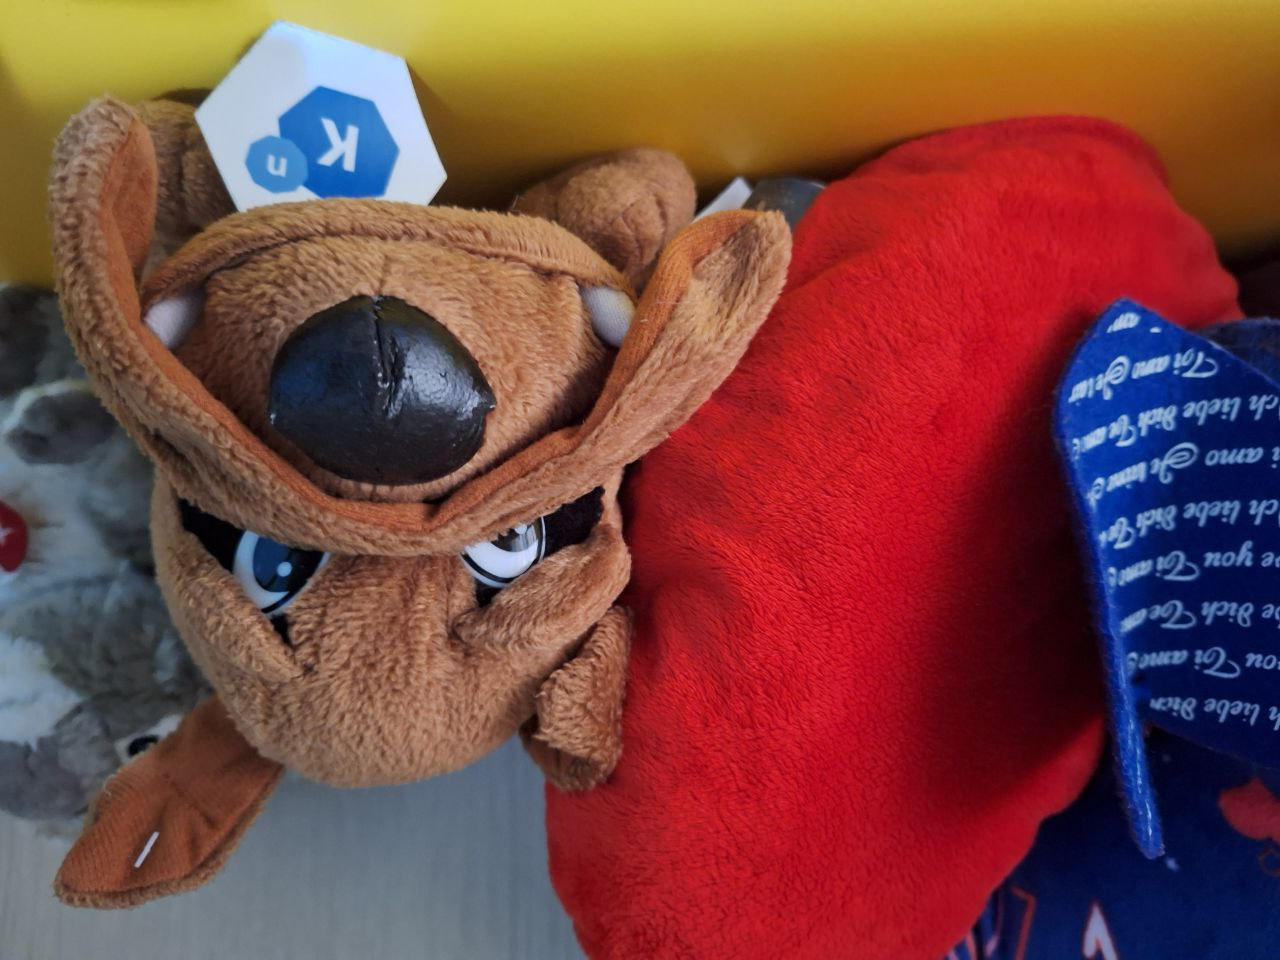knative: (239, 82, 399, 201)
